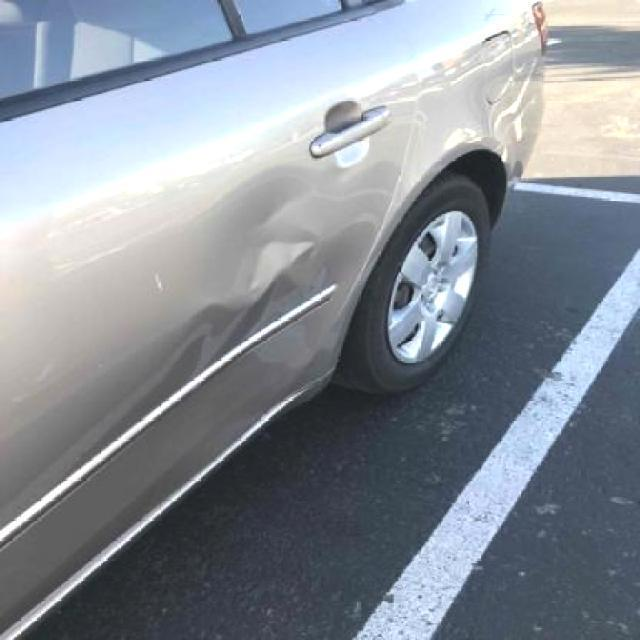minor: (202, 178, 326, 297)
